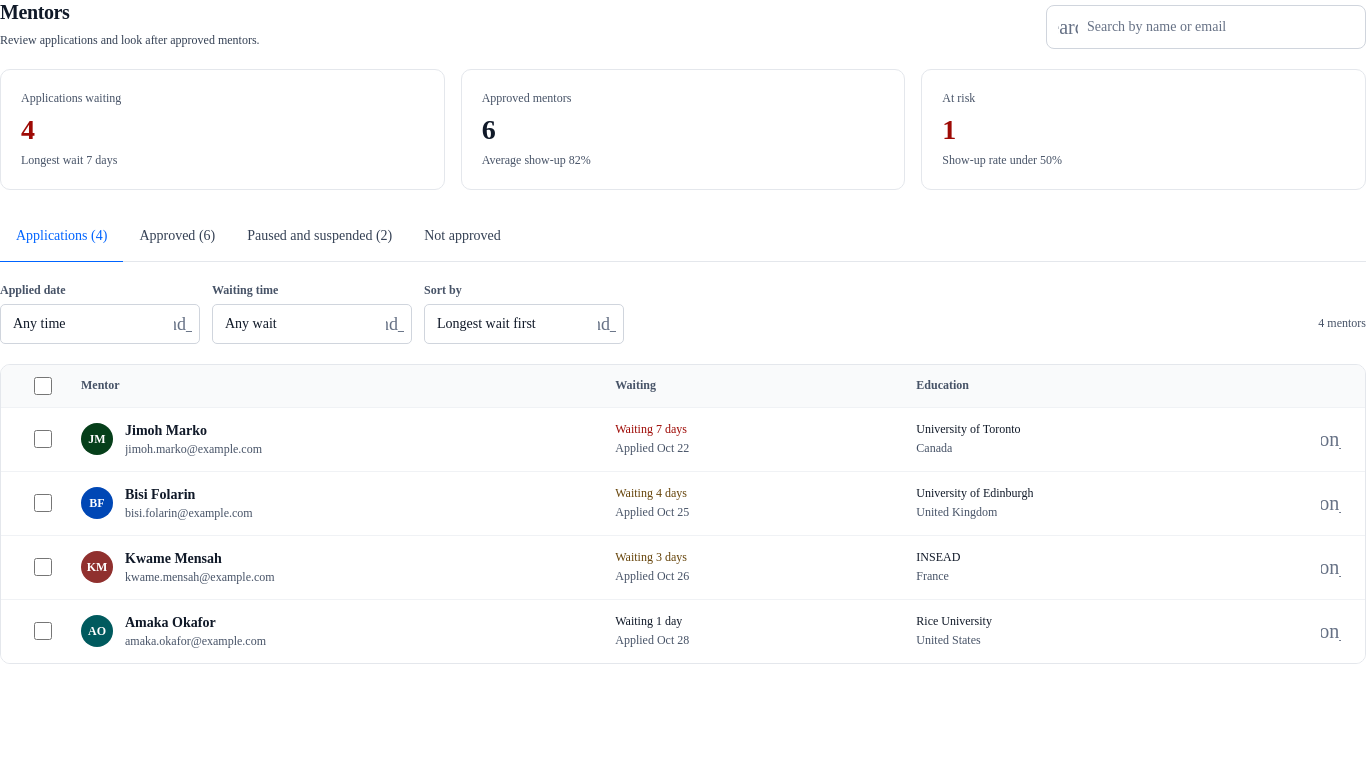
the drawer › a mentor who paused themselves: the reason says so, and only Email
What coordinates should you click on to do the following:
click the tab "Paused and suspended (2)"
I would click on:
 (320, 236)
Its box is [231,210,408,262].
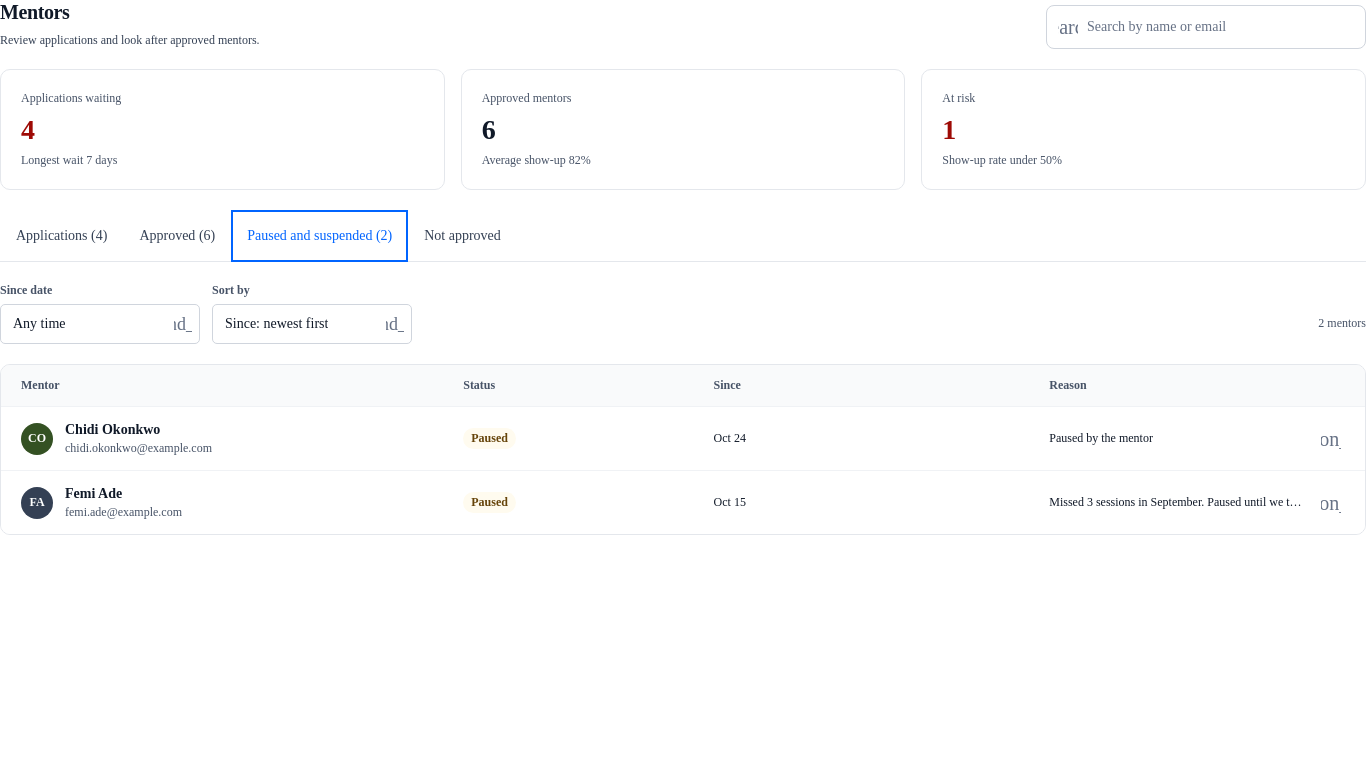
What coordinates should you click on to do the following:
click the button with aria-label "Open Chidi Okonkwo"
I would click on:
 (138, 430)
Its box is [65,420,212,440].
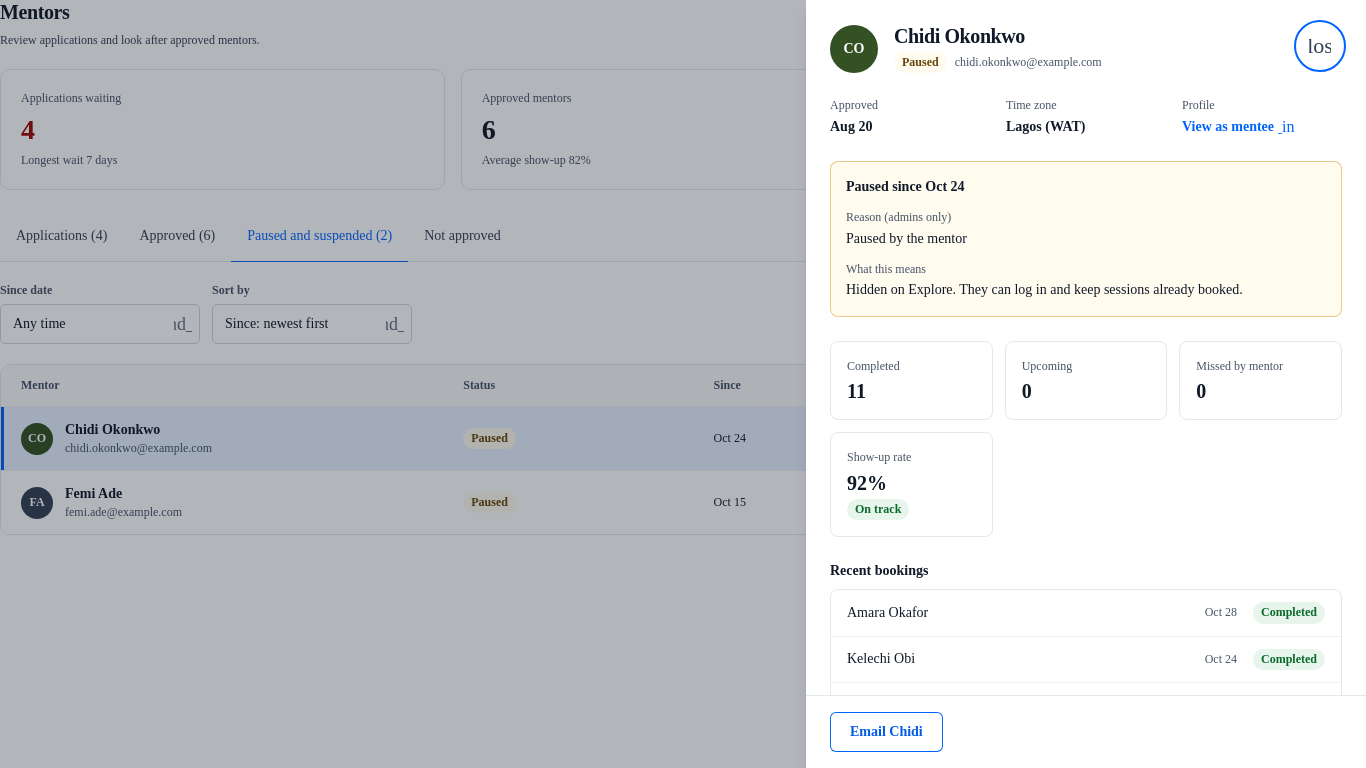
Check: the text "Paused by the mentor" is shown, box [846,231,967,246]
Check: the link "Email Chidi" is shown, box [830,712,943,752]
